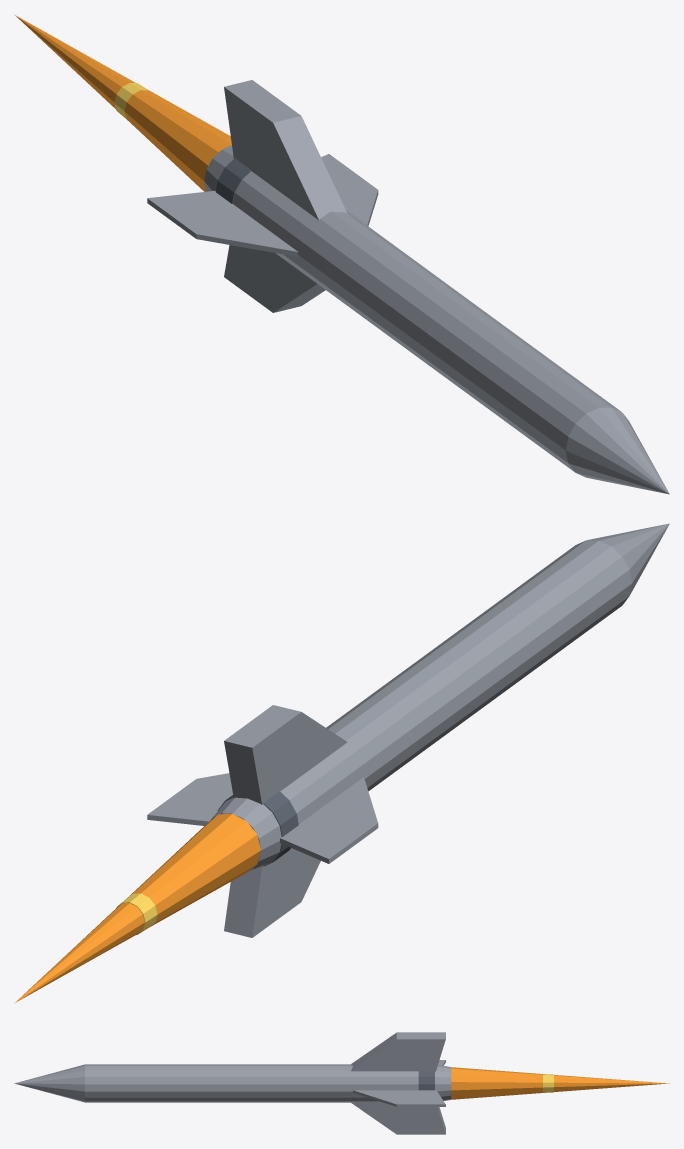
File: missile.glb
3 renders of one model, top to bottom at view 1: azimuth 30°, elevation 25°; view 2: azimuth 150°, elevation 25°; view 3: azimuth 270°, elevation 25°, orthographic. The views are drawn at different scales.
Parts seen in each view (by area): view 1: missile body; view 2: missile body; view 3: missile body.
Boxes of the visible parts, box(x1,y1,x2,y2) form: missile body: box(14, 14, 669, 494); missile body: box(14, 523, 669, 1003); missile body: box(14, 1032, 669, 1134).
Bounding box in the file's own units: 0.96 × 0.96 × 6.
